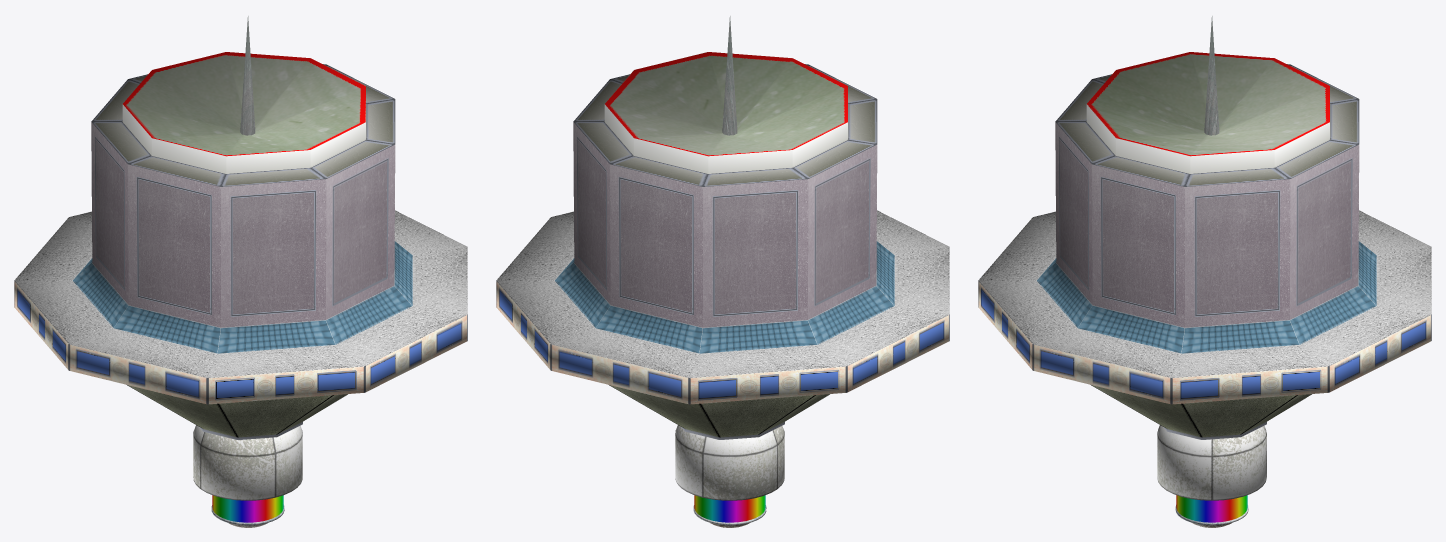
File: spacestation4.fbx
The picture shows the model from 3 angles, left to right: view 1: azimuth 30°, elevation 25°; view 2: azimuth 150°, elevation 25°; view 3: azimuth 270°, elevation 25°; orthographic projection.
Visible parts, largest first — view 1: Station, Dock, Barrier1; view 2: Station, Dock, Barrier1; view 3: Station, Dock, Barrier1.
Boxes of the visible parts, box(x1,y1,x2,y2) form: Station: box(14, 16, 467, 439); Dock: box(193, 425, 302, 500); Barrier1: box(212, 495, 283, 522); Station: box(496, 16, 949, 439); Dock: box(675, 425, 784, 500); Barrier1: box(694, 495, 765, 522); Station: box(978, 16, 1431, 439); Dock: box(1157, 425, 1266, 500); Barrier1: box(1176, 495, 1247, 522).
Bounding box in the file's own units: 236 × 288 × 233.
Materials: 6 (6 with a texture image).
